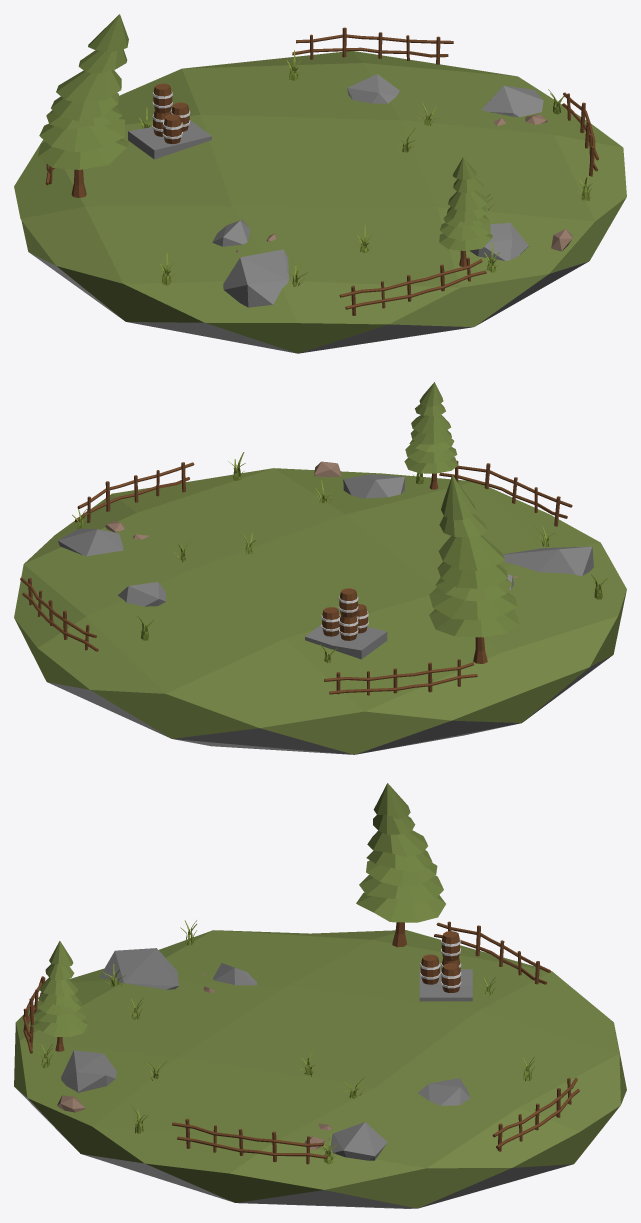
File: terrain.glb
3 views of the same model, one above another, from view 1: azimuth 30°, elevation 25°; view 2: azimuth 150°, elevation 25°; view 3: azimuth 270°, elevation 25° (orthographic). The views are drawn at different scales.
Parts seen in each view (by area): view 1: Ground, Tree1, Tree2, Rock2, Fence, Fence.001, stone floor, Rock3, Rock1, Rock4, Rock5, Barrel3 (+1 smaller); view 2: Ground, Tree1, Tree2, Fence, Fence.001, Rock2, stone floor, Rock3, Rock1, Rock4, Barrel3; view 3: Ground, Tree1, Tree2, Fence.001, Rock2, Fence, Rock1, Rock3, stone floor, Rock4, Rock5.
Boxes of the visible parts, left/top/right/bottom form: Ground: left=14, top=51, right=626, bottom=353; Tree1: left=38, top=14, right=129, bottom=197; Tree2: left=439, top=157, right=492, bottom=266; Rock2: left=223, top=249, right=289, bottom=307; Fence: left=339, top=92, right=598, bottom=315; Fence.001: left=45, top=27, right=453, bottom=185; stone floor: left=128, top=120, right=211, bottom=159; Rock3: left=481, top=85, right=543, bottom=117; Rock1: left=469, top=222, right=528, bottom=260; Rock4: left=347, top=74, right=399, bottom=103; Rock5: left=212, top=220, right=250, bottom=246; Barrel3: left=152, top=83, right=172, bottom=113; Ground: left=14, top=468, right=626, bottom=754; Tree1: left=429, top=475, right=519, bottom=663; Tree2: left=404, top=382, right=457, bottom=489; Fence: left=75, top=460, right=572, bottom=526; Fence.001: left=20, top=577, right=477, bottom=695; Rock2: left=503, top=546, right=593, bottom=575; stone floor: left=305, top=624, right=387, bottom=659; Rock3: left=57, top=528, right=123, bottom=556; Rock1: left=343, top=474, right=404, bottom=498; Rock4: left=118, top=582, right=166, bottom=606; Barrel3: left=338, top=588, right=358, bottom=617; Ground: left=14, top=930, right=626, bottom=1208; Tree1: left=356, top=783, right=445, bottom=947; Tree2: left=32, top=941, right=87, bottom=1051; Fence.001: left=434, top=921, right=579, bottom=1151; Rock2: left=99, top=948, right=178, bottom=989; Fence: left=23, top=976, right=327, bottom=1164; Rock1: left=61, top=1050, right=116, bottom=1092; Rock3: left=329, top=1122, right=386, bottom=1160; stone floor: left=419, top=969, right=472, bottom=1001; Rock4: left=417, top=1078, right=470, bottom=1105; Rock5: left=213, top=963, right=256, bottom=985.
Bounding box in the file's own units: 19.25 × 9.14 × 18.83.
